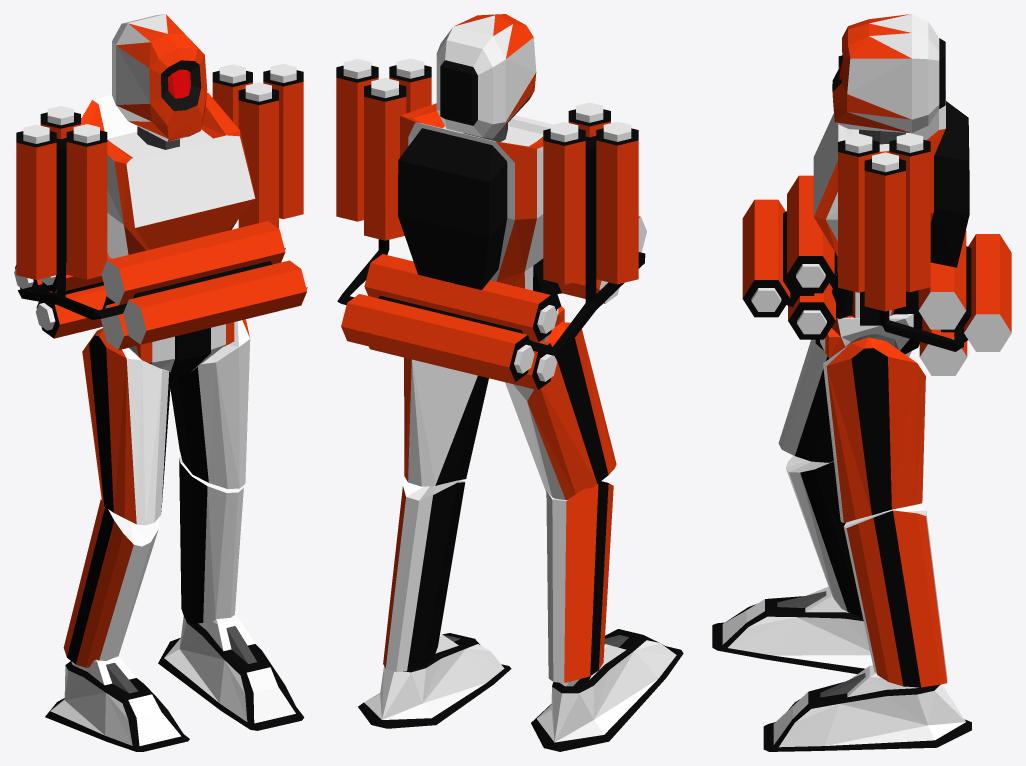
The model's file is robots_000002.obj.
3 renders of one model, left to right at view 1: azimuth 30°, elevation 25°; view 2: azimuth 150°, elevation 25°; view 3: azimuth 270°, elevation 25°, orthographic. The views are drawn at different scales.
Visible parts, largest first — view 1: Cylinder.004_Cylinder.006, Chest_plate_Cube.004, R_Thigh_Cube.005, Head_base.002_Cube.030, R_Thigh.002_Cube.027, R_Foot.002_Cube.035, R_Shin_Cube.007, R_Shin.002_Cube.029, R_Foot_Cube, Pelvis_Cube.006; view 2: Cylinder.004_Cylinder.006, Chest_plate_Cube.004, R_Shin_Cube.007, R_Shin.002_Cube.029, R_Thigh_Cube.005, Head_base.002_Cube.030, R_Foot_Cube, R_Thigh.002_Cube.027, R_Foot.002_Cube.035; view 3: Cylinder.004_Cylinder.006, R_Thigh.002_Cube.027, R_Shin.002_Cube.029, R_Foot.002_Cube.035, Head_base.002_Cube.030, Chest_plate_Cube.004, R_Foot_Cube, R_Shin_Cube.007, R_Thigh_Cube.005, Pelvis_Cube.006.
Boxes of the visible parts, bbox=[...] form: Cylinder.004_Cylinder.006: bbox=[14, 63, 307, 350]; Chest_plate_Cube.004: bbox=[81, 92, 255, 309]; R_Thigh_Cube.005: bbox=[82, 328, 170, 525]; Head_base.002_Cube.030: bbox=[112, 14, 207, 141]; R_Thigh.002_Cube.027: bbox=[170, 319, 250, 488]; R_Foot.002_Cube.035: bbox=[158, 615, 304, 730]; R_Shin_Cube.007: bbox=[63, 499, 159, 667]; R_Shin.002_Cube.029: bbox=[179, 457, 243, 623]; R_Foot_Cube: bbox=[45, 656, 189, 751]; Pelvis_Cube.006: bbox=[136, 322, 234, 377]; Cylinder.004_Cylinder.006: bbox=[336, 58, 646, 389]; Chest_plate_Cube.004: bbox=[398, 103, 561, 308]; R_Shin_Cube.007: bbox=[546, 481, 613, 682]; R_Shin.002_Cube.029: bbox=[383, 477, 465, 672]; R_Thigh_Cube.005: bbox=[505, 322, 616, 499]; Head_base.002_Cube.030: bbox=[436, 14, 536, 138]; R_Foot_Cube: bbox=[531, 629, 683, 751]; R_Thigh.002_Cube.027: bbox=[404, 357, 488, 486]; R_Foot.002_Cube.035: bbox=[358, 633, 511, 728]; Cylinder.004_Cylinder.006: bbox=[742, 55, 1011, 375]; R_Thigh.002_Cube.027: bbox=[823, 337, 925, 522]; R_Shin.002_Cube.029: bbox=[844, 503, 947, 687]; R_Foot.002_Cube.035: bbox=[763, 665, 971, 751]; Head_base.002_Cube.030: bbox=[832, 14, 945, 133]; Chest_plate_Cube.004: bbox=[813, 90, 969, 325]; R_Foot_Cube: bbox=[712, 586, 872, 673]; R_Shin_Cube.007: bbox=[785, 455, 862, 617]; R_Thigh_Cube.005: bbox=[778, 339, 911, 462]; Pelvis_Cube.006: bbox=[815, 290, 922, 358].
Size of the model in its own units: 1.38 by 3.06 by 1.21.
